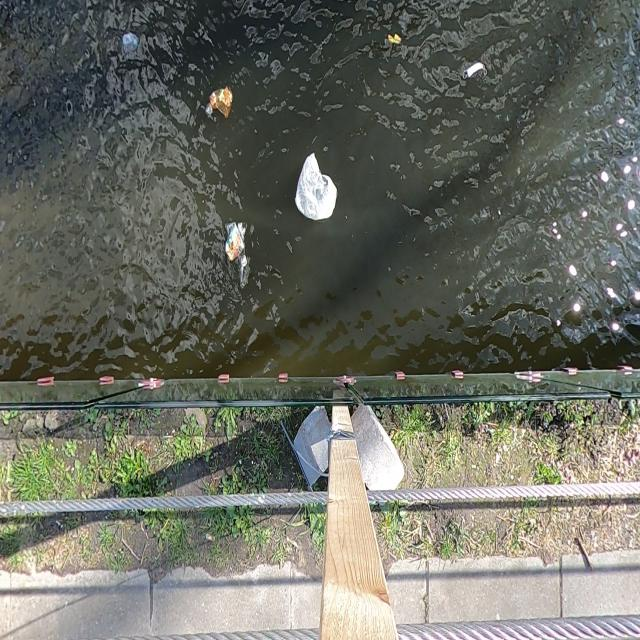Non plastique: (460, 57, 490, 83)
Sac plastique: (292, 153, 345, 221), (205, 82, 237, 122), (118, 31, 146, 62)
